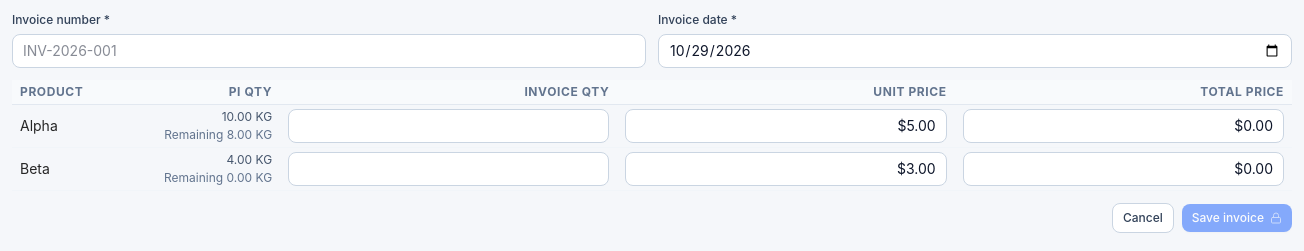
Test: InvoiceEditor — create mode › marks a vanished PI line superseded on a 400 and keeps the header
Expected: the text "Alpha" is shown, [12,104,117,148]
Type "INV-400" into the field named "Invoice number" at (329, 51), box [12,34,646,68]
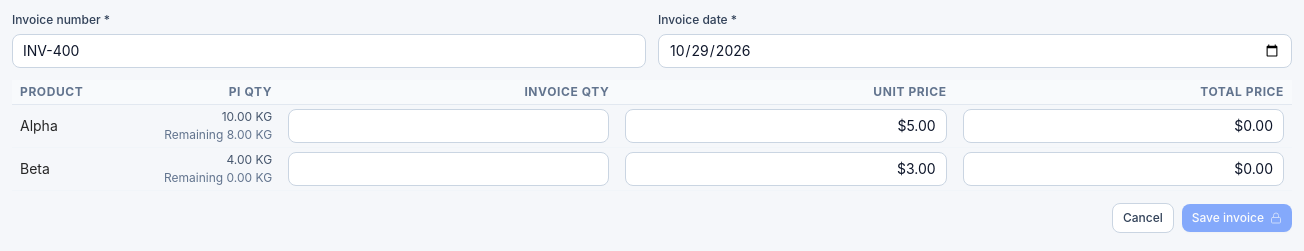
Type "1" into the number field named "Invoice qty for Alpha" at (449, 126), box [288,109,610,143]
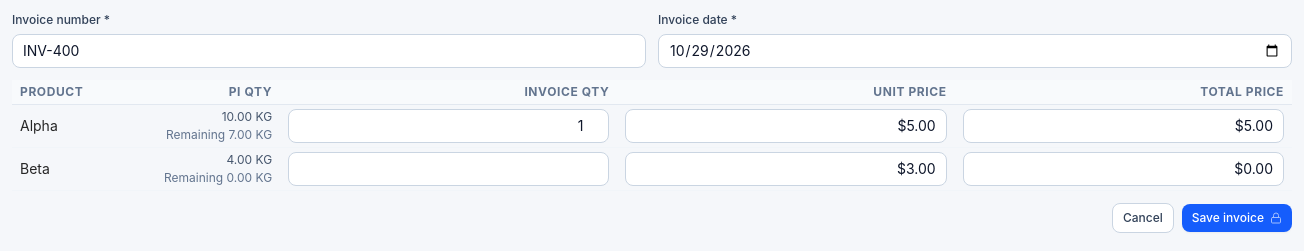
Click the button "Save invoice" at (1237, 218), box [1182,204,1292,232]
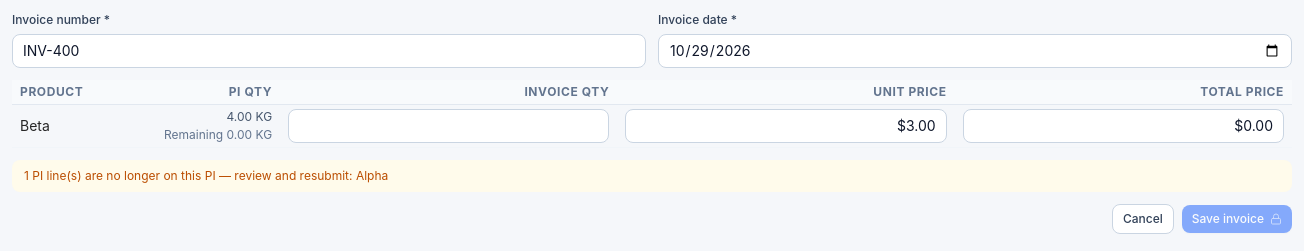
Result: the text "no longer on this PI" shows "Alpha" at [356,168,388,183]
